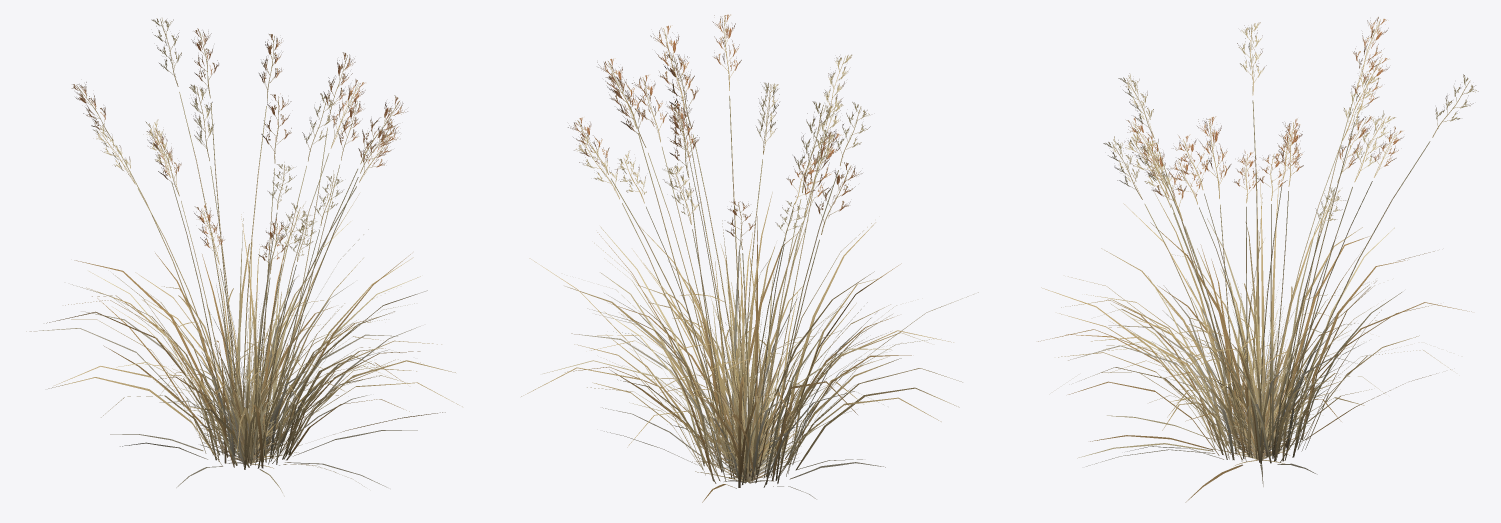
Rendered from DryTussock.glb.
The picture shows the model from 3 angles, left to right: view 1: azimuth 30°, elevation 25°; view 2: azimuth 150°, elevation 25°; view 3: azimuth 270°, elevation 25°; orthographic projection. The views are drawn at different scales.
Visible parts, largest first — view 1: tall_tussock; view 2: tall_tussock; view 3: tall_tussock.
Boxes of the visible parts, x1,y1,x2,y2 form: tall_tussock: (26,18,462,496); tall_tussock: (521,14,978,502); tall_tussock: (1038,17,1478,502).
Size of the model in its own units: 1.69 by 1.6 by 1.63.
Materials: 1 (1 with a texture image).
